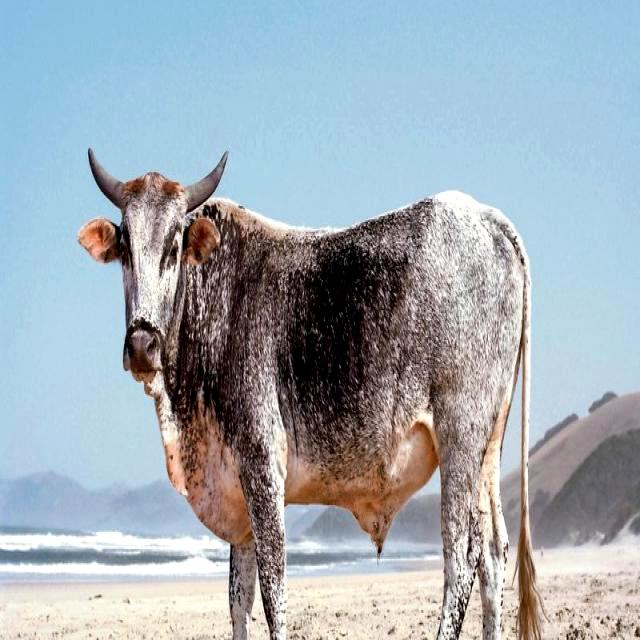COW: (79, 151, 529, 639)
